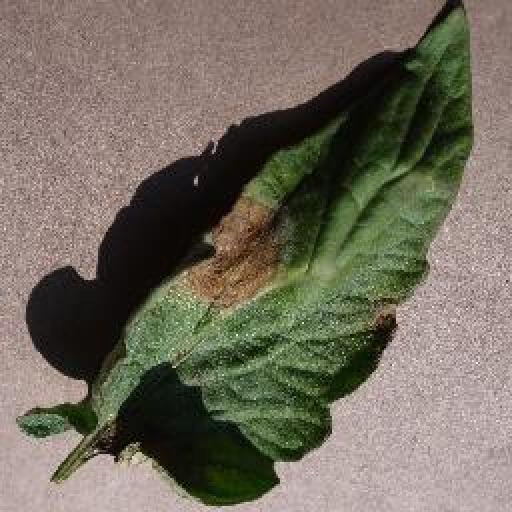disease_tomato: (76, 0, 474, 504)
